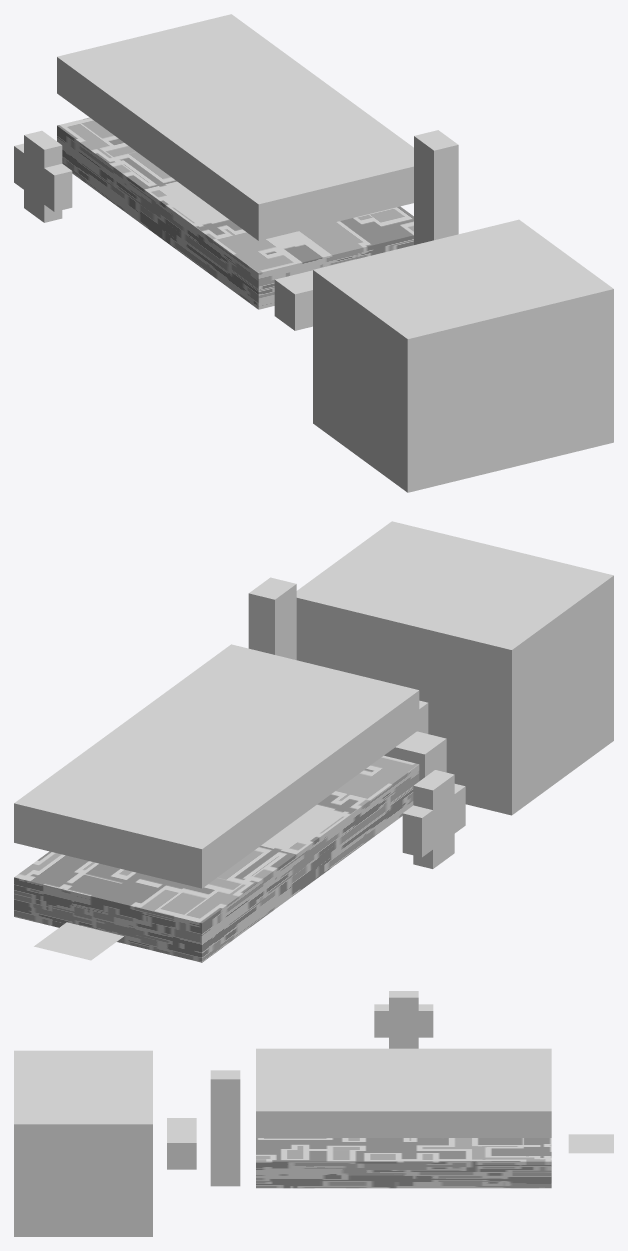
File: HealthPickup.fbx
3 renders of one model, top to bottom at view 1: azimuth 30°, elevation 25°; view 2: azimuth 150°, elevation 25°; view 3: azimuth 270°, elevation 25°, orthographic. The views are drawn at different scales.
Parts seen in each view (by area): view 1: Cube, Cube.004, Cube.003, Cube.001, Cube.005; view 2: Cube, Cube.004, Cube.003, Cube.001, Cube.005, Plane; view 3: Cube.004, Cube, Cube.003, Cube.001, Cube.005, Cube.002, Plane.
Part boxes in pixels (x1,y1,x2,y2): Cube: [313, 219, 613, 492]; Cube.004: [57, 14, 413, 240]; Cube.003: [57, 117, 413, 309]; Cube.001: [274, 130, 458, 330]; Cube.005: [14, 130, 72, 222]; Cube: [296, 521, 613, 815]; Cube.004: [14, 644, 419, 888]; Cube.003: [14, 755, 419, 962]; Cube.001: [248, 577, 446, 780]; Cube.005: [402, 770, 465, 868]; Plane: [34, 922, 123, 960]; Cube.004: [256, 1048, 551, 1137]; Cube: [14, 1050, 152, 1236]; Cube.003: [256, 1138, 551, 1188]; Cube.001: [210, 1070, 240, 1186]; Cube.005: [374, 991, 433, 1048]; Cube.002: [167, 1118, 196, 1169]; Plane: [568, 1134, 613, 1153].
Bounding box in the file's own units: 1797 × 1120 × 4056.
Materials: 4 (1 with a texture image).
